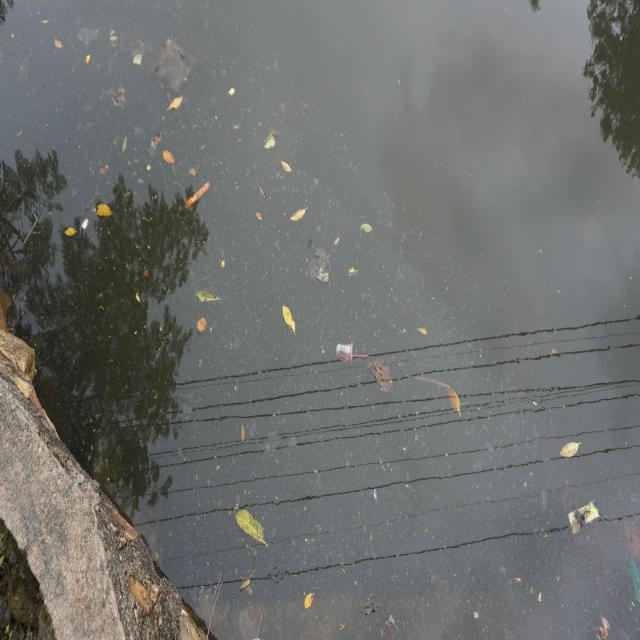Bungkus Makanan: (570, 499, 602, 531), (187, 181, 213, 206)
Bungkus Minuman: (334, 337, 360, 365)
Kantong Plastik: (306, 246, 332, 285)
